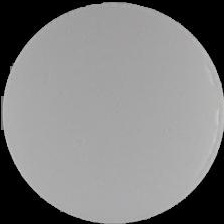68151-4123: (0, 0, 224, 224)
